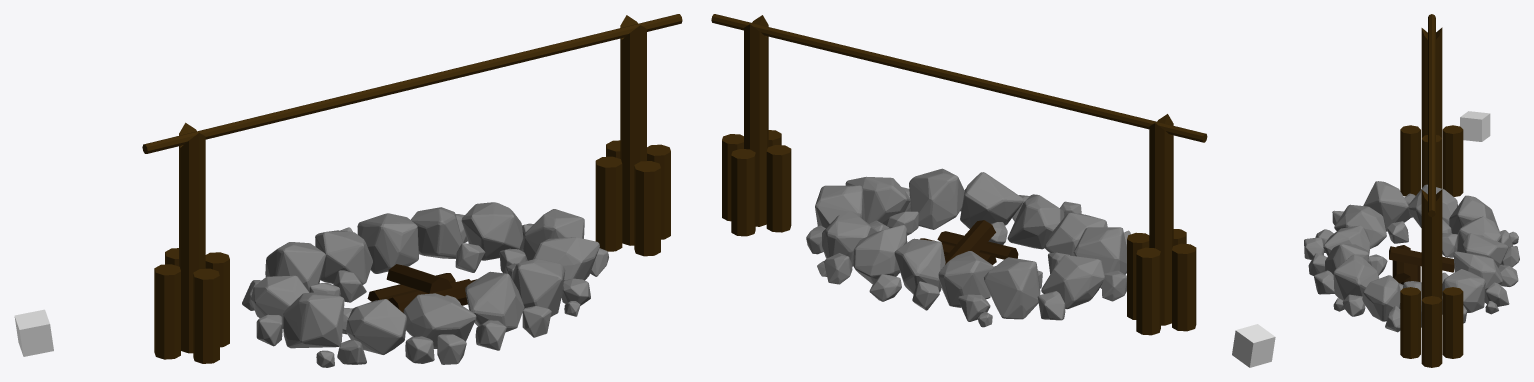
Rendered from RoastingPit_Empty.glb.
3 views of the same model, side by side, from view 1: azimuth 30°, elevation 25°; view 2: azimuth 150°, elevation 25°; view 3: azimuth 270°, elevation 25° (orthographic). The views are drawn at different scales.
Visible parts, largest first — view 1: Stone, Stilts, Bar, FireWood, Spare; view 2: Stone, Stilts, Bar, FireWood, Spare; view 3: Stone, Stilts, Bar, FireWood, Spare.
Part boxes in pixels (x1,y1,x2,y2): Stone: (242, 202, 608, 367); Stilts: (154, 15, 670, 363); Bar: (142, 14, 682, 153); FireWood: (367, 264, 476, 312); Spare: (14, 309, 53, 356); Stone: (806, 168, 1130, 327); Stilts: (722, 15, 1196, 335); Bar: (711, 14, 1207, 142); FireWood: (920, 220, 1018, 264); Spare: (1232, 324, 1275, 367); Stone: (1304, 181, 1519, 332); Stilts: (1400, 27, 1463, 367); Bar: (1428, 14, 1435, 217); FireWood: (1389, 245, 1454, 284); Spare: (1460, 111, 1490, 141).
Bounding box in the file's own units: 80.43 × 26.99 × 31.47.
